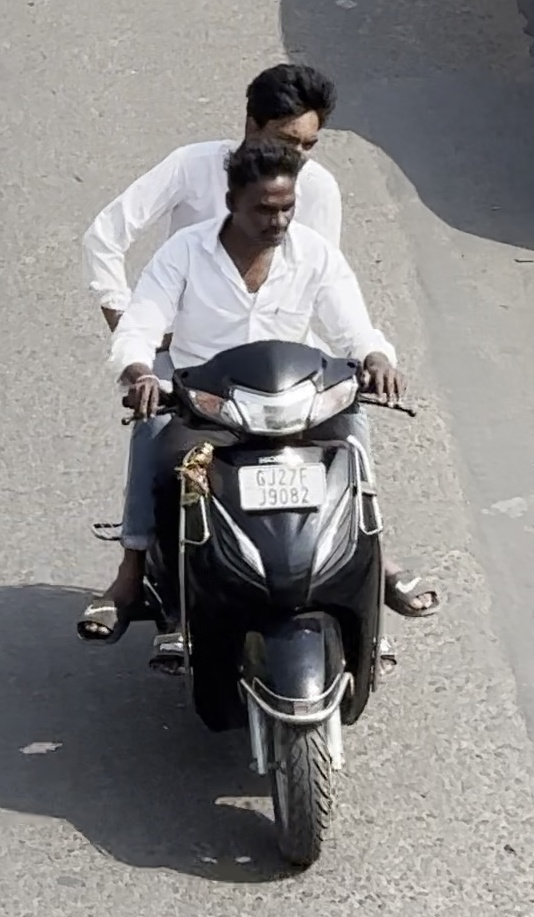BikeWithRider: (58, 50, 452, 880)
NoHelmet: (222, 52, 349, 178), (200, 129, 319, 256)
